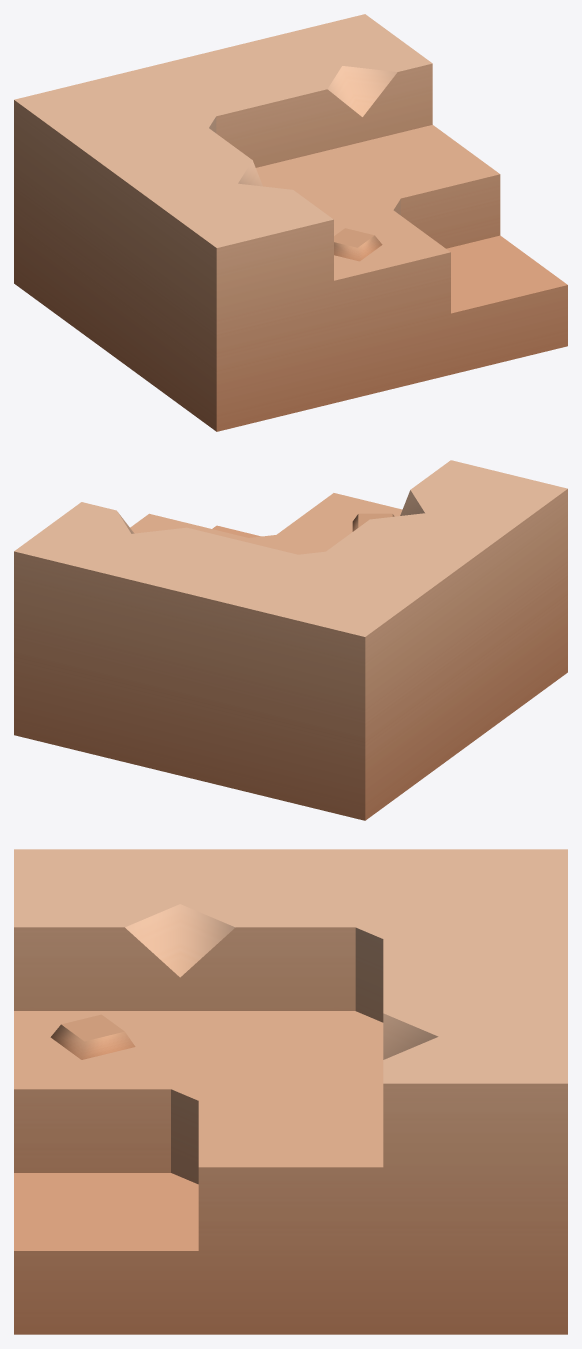
File: stairs-corner-inner.obj
3 views of the same model, one above another, from view 1: azimuth 30°, elevation 25°; view 2: azimuth 150°, elevation 25°; view 3: azimuth 270°, elevation 25° (orthographic). The views are drawn at different scales.
Parts seen in each view (by area): view 1: stairs-corner-inner; view 2: stairs-corner-inner; view 3: stairs-corner-inner.
Boxes of the visible parts, bbox=[...] form: stairs-corner-inner: bbox=[14, 14, 567, 431]; stairs-corner-inner: bbox=[14, 460, 567, 820]; stairs-corner-inner: bbox=[14, 849, 567, 1334].
Bounding box in the file's own units: 1 × 0.5 × 1.
1 material, 1 textured.
